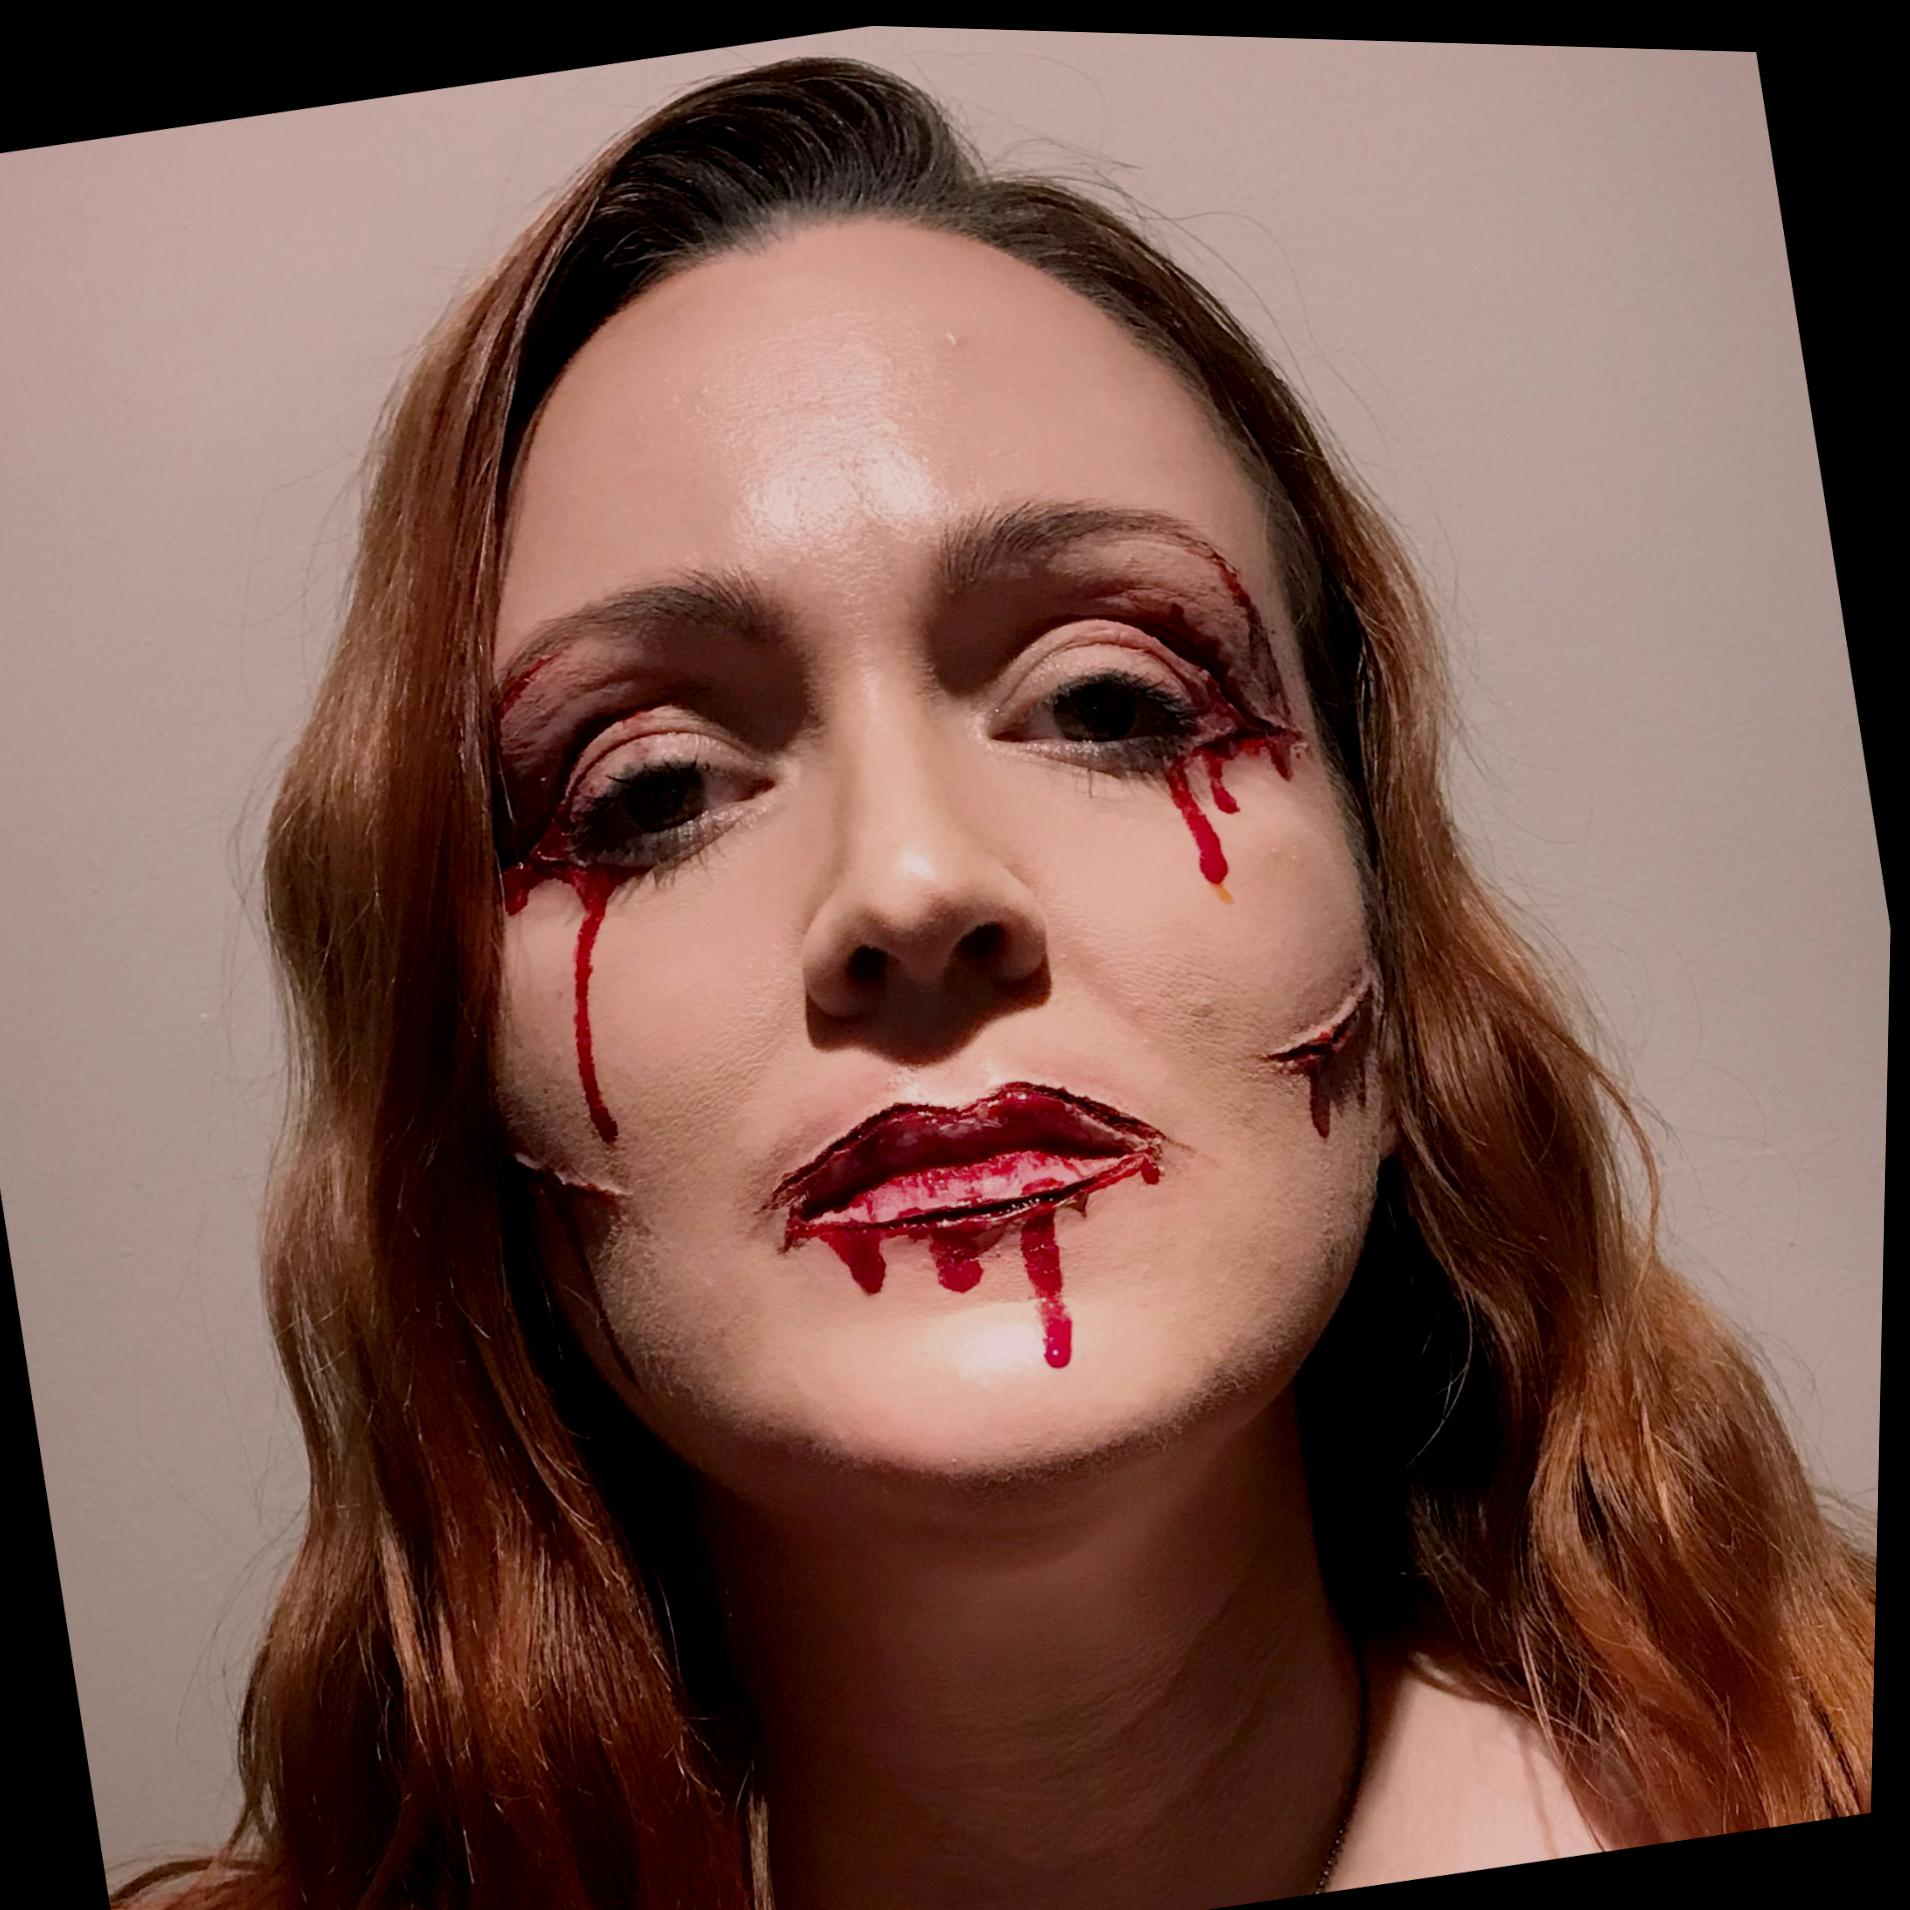Fire: (777, 1077, 1170, 1364), (1048, 500, 1317, 876), (504, 754, 647, 1140), (516, 1144, 658, 1389), (1272, 950, 1391, 1130), (498, 651, 556, 805)
